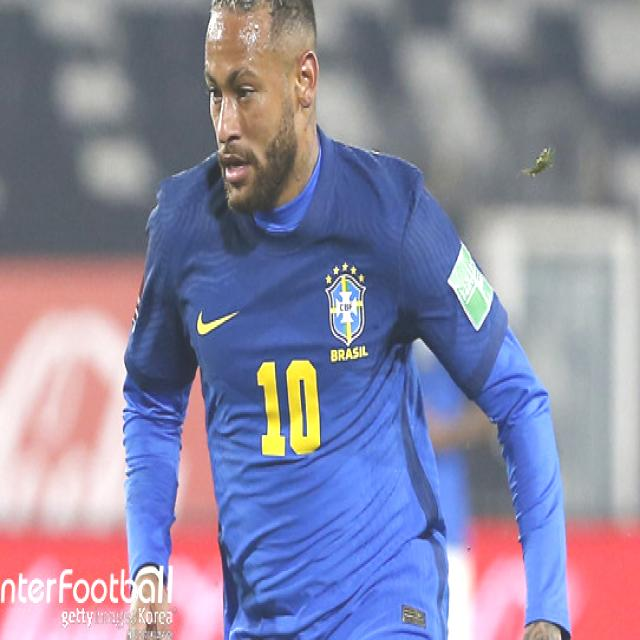neymar: (200, 0, 324, 209)
